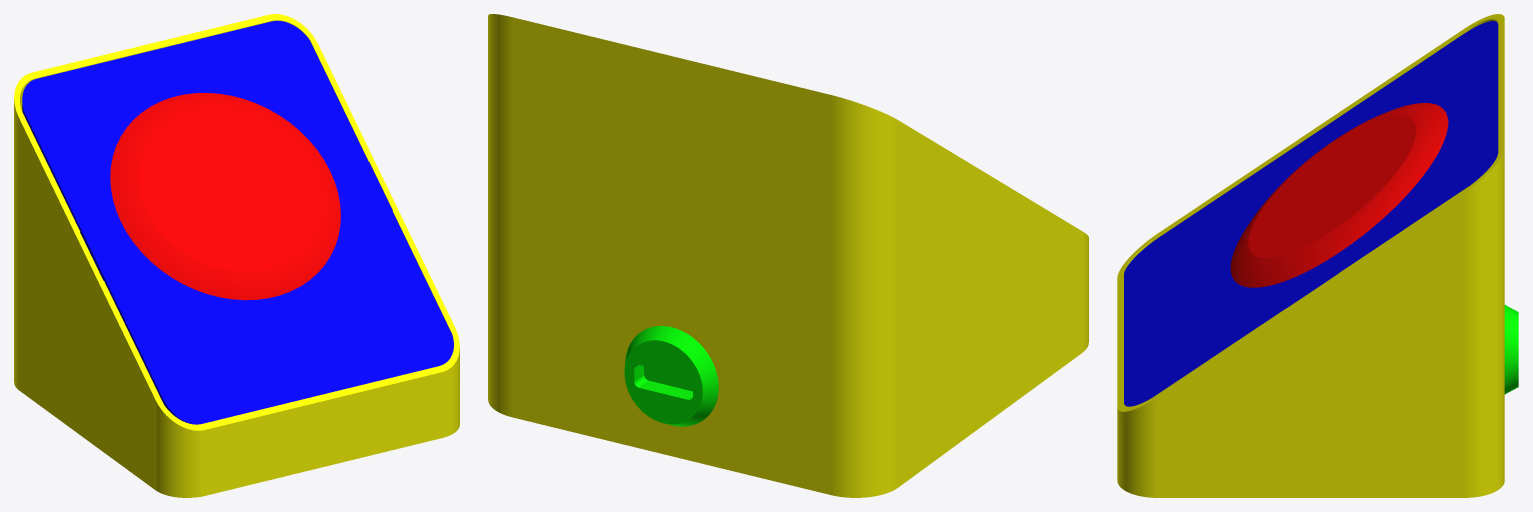
The model's file is radar_v3.gltf.
3 renders of one model, left to right at view 1: azimuth 30°, elevation 25°; view 2: azimuth 150°, elevation 25°; view 3: azimuth 270°, elevation 25°, orthographic. The views are drawn at different scales.
Visible parts, largest first — view 1: faceplate, body, screen; view 2: body, plug; view 3: body, faceplate, screen, plug.
Part boxes in pixels (box(x1,y1,x2,y2)): faceplate: box(22, 20, 453, 424); body: box(14, 14, 459, 497); screen: box(110, 93, 340, 300); body: box(488, 14, 1088, 497); plug: box(624, 326, 718, 426); body: box(1117, 14, 1504, 497); faceplate: box(1124, 21, 1498, 406); screen: box(1230, 103, 1448, 287); plug: box(1504, 305, 1518, 394).
Size of the model in its own units: 0.0603 by 0.0571 by 0.0625.
